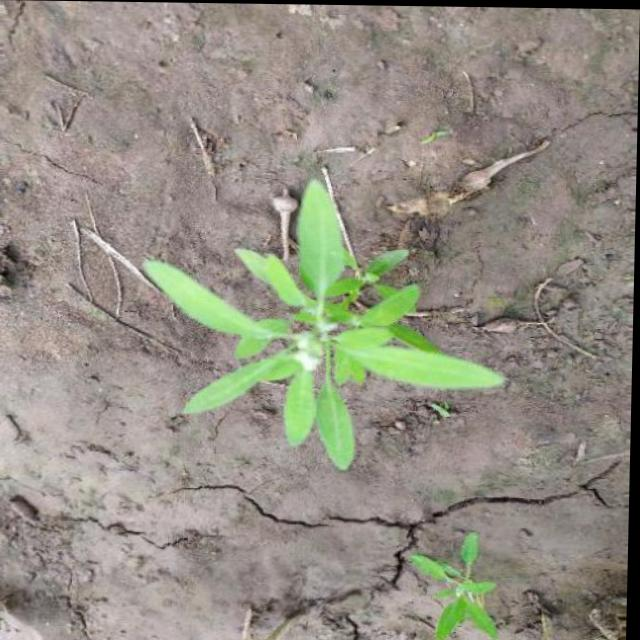weed: (128, 168, 516, 474), (399, 521, 511, 640)
